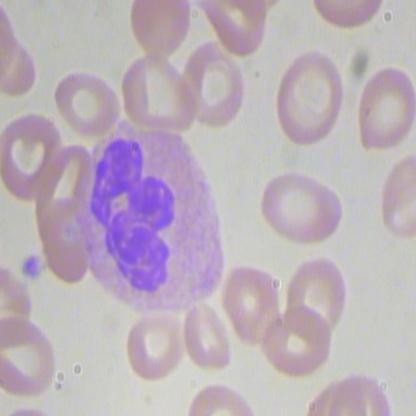Platelets: (16, 252, 46, 284)
RBC: (270, 46, 349, 146), (259, 170, 344, 244), (353, 53, 415, 154), (258, 298, 339, 375), (282, 257, 363, 334), (181, 37, 249, 127), (220, 265, 286, 353), (46, 62, 124, 136), (122, 308, 190, 387), (1, 315, 60, 406), (120, 1, 199, 61), (373, 155, 415, 250), (185, 302, 234, 376)
WBC: (75, 116, 236, 320)
